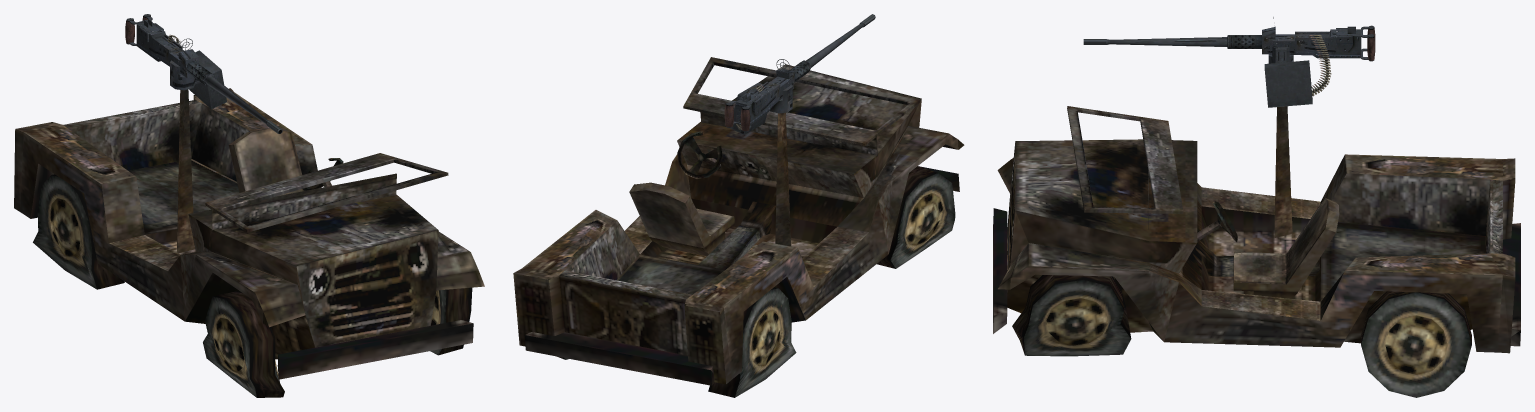
The model's file is etek1x.glb.
3 renders of one model, left to right at view 1: azimuth 30°, elevation 25°; view 2: azimuth 150°, elevation 25°; view 3: azimuth 270°, elevation 25°, orthographic. The views are drawn at different scales.
Parts seen in each view (by area): view 1: _etek1x; view 2: _etek1x; view 3: _etek1x.
Boxes of the visible parts, <box> form: _etek1x: <box>14,14,484,397</box>; _etek1x: <box>513,14,964,397</box>; _etek1x: <box>993,17,1520,397</box>.
Bounding box in the file's own units: 2.13 × 2.6 × 4.16.
2 materials, 2 textured.
